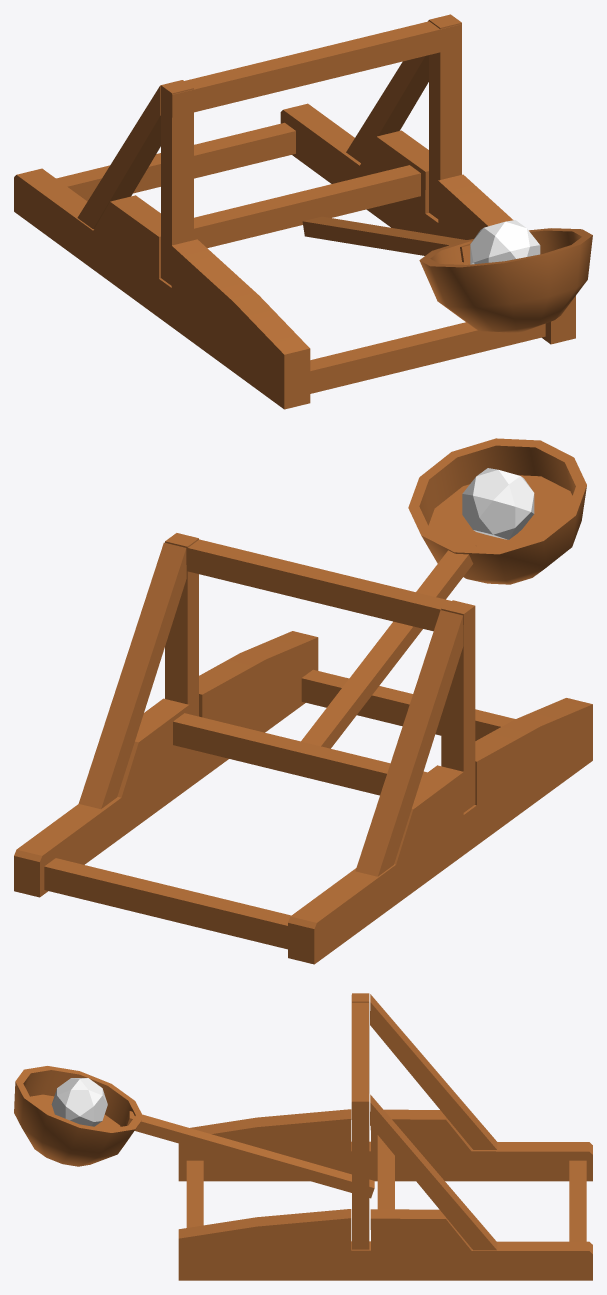
File: catapult.FBX
3 views of the same model, one above another, from view 1: azimuth 30°, elevation 25°; view 2: azimuth 150°, elevation 25°; view 3: azimuth 270°, elevation 25° (orthographic). The views are drawn at different scales.
Visible parts, largest first — view 1: Box001, Object001, Hedra001; view 2: Box001, Object001, Hedra001; view 3: Box001, Object001, Hedra001.
Part boxes in pixels (left/top/right/bottom): Box001: left=14, top=14, right=575, bottom=409; Object001: left=302, top=216, right=592, bottom=333; Hedra001: left=470, top=220, right=540, bottom=264; Box001: left=14, top=533, right=592, bottom=964; Object001: left=301, top=438, right=586, bottom=748; Hedra001: left=462, top=468, right=534, bottom=539; Box001: left=178, top=993, right=592, bottom=1280; Object001: left=14, top=1066, right=374, bottom=1198; Hedra001: left=51, top=1078, right=107, bottom=1126.
Bounding box in the file's own units: 106 × 237 × 80.71.
